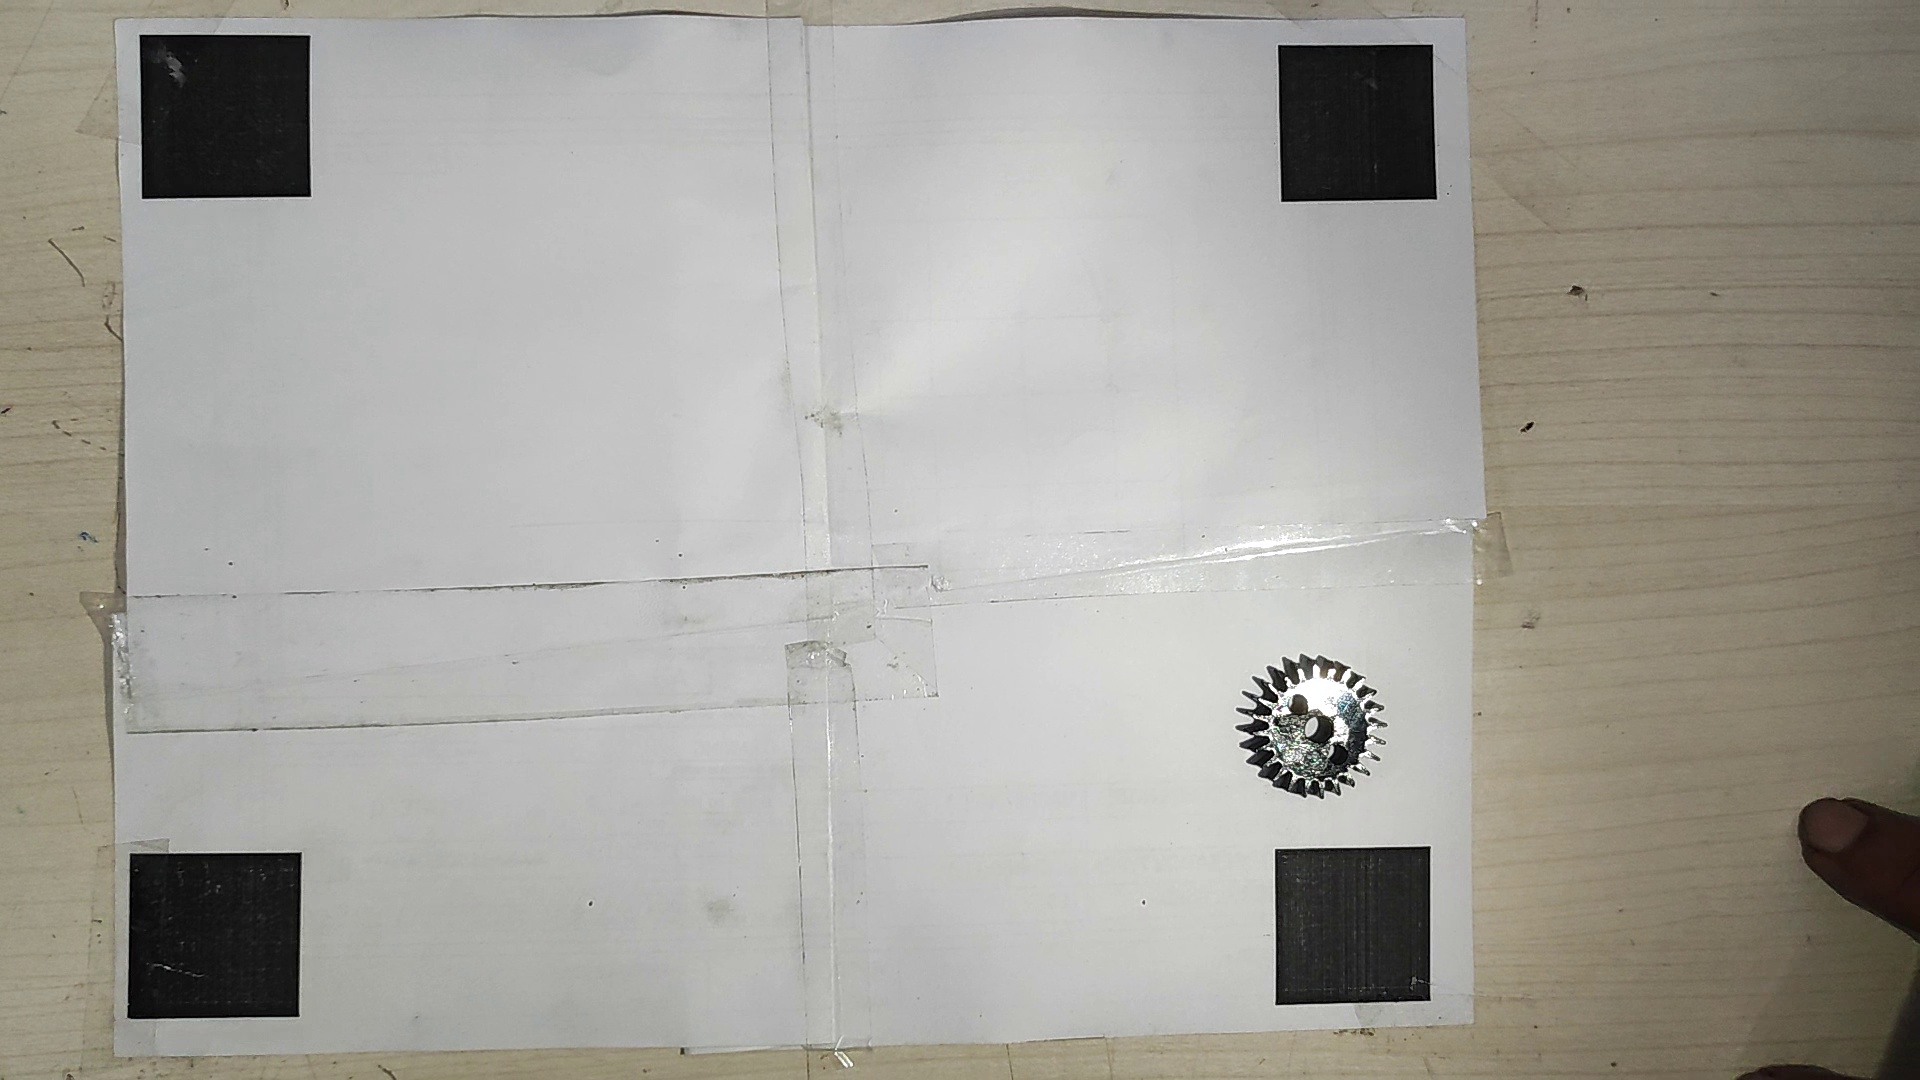Gear: (1232, 649, 1391, 800)
